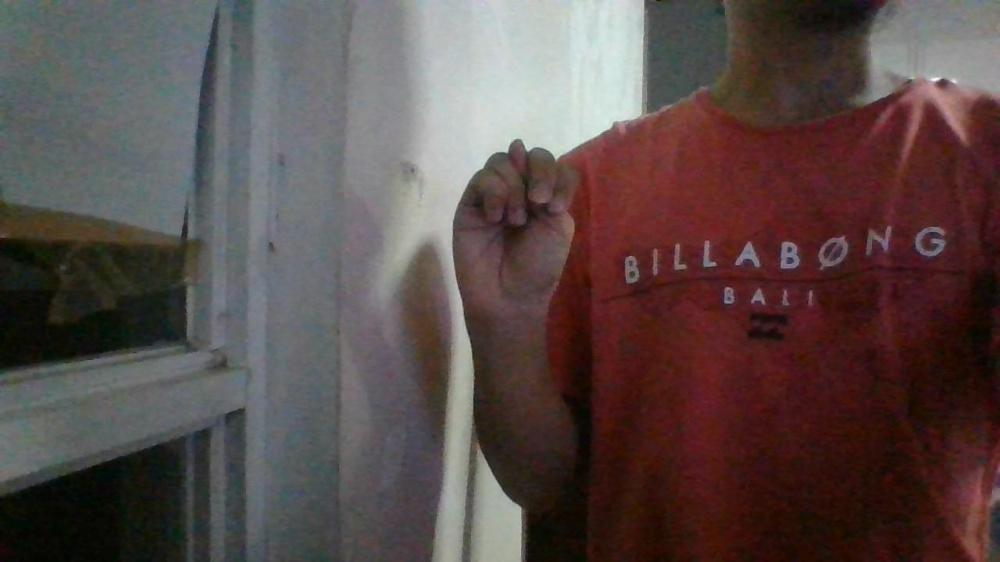n: (451, 137, 580, 317)
